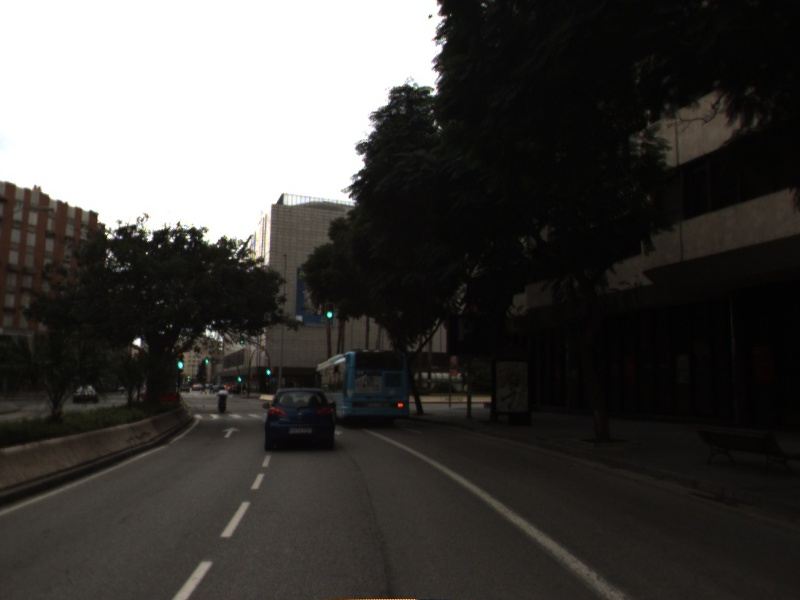STRAIGHT: (220, 424, 243, 440)
